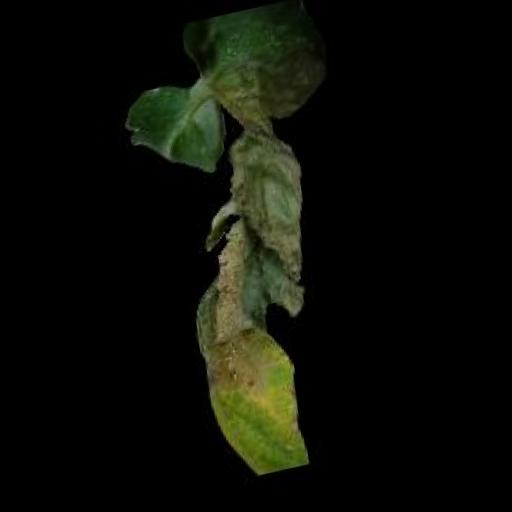Late Blight: (94, 0, 400, 503)
